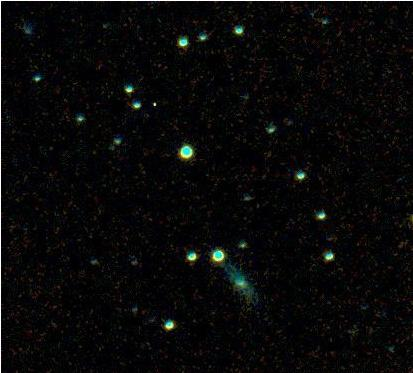star: (139, 87, 169, 117)
